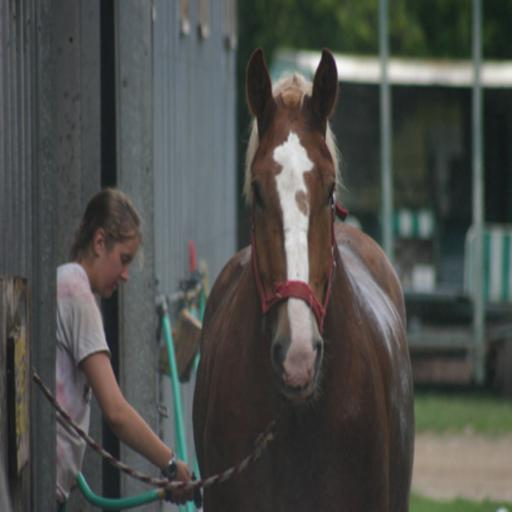horse: (188, 40, 416, 510)
